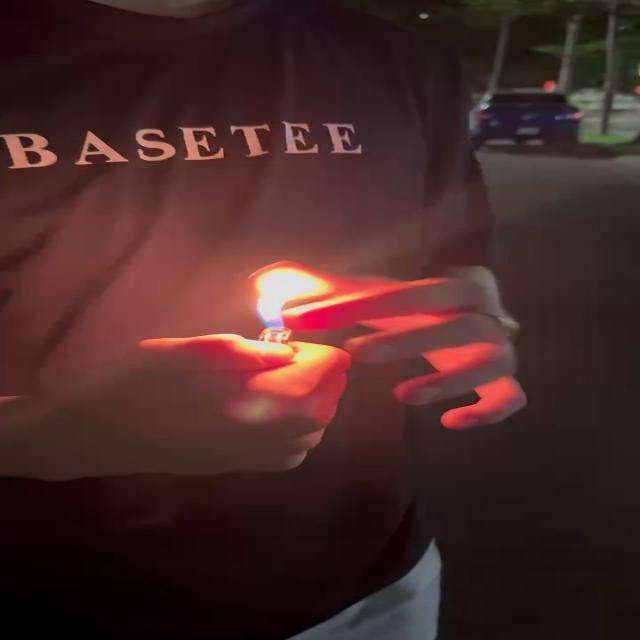Fire: (258, 278, 297, 332)
